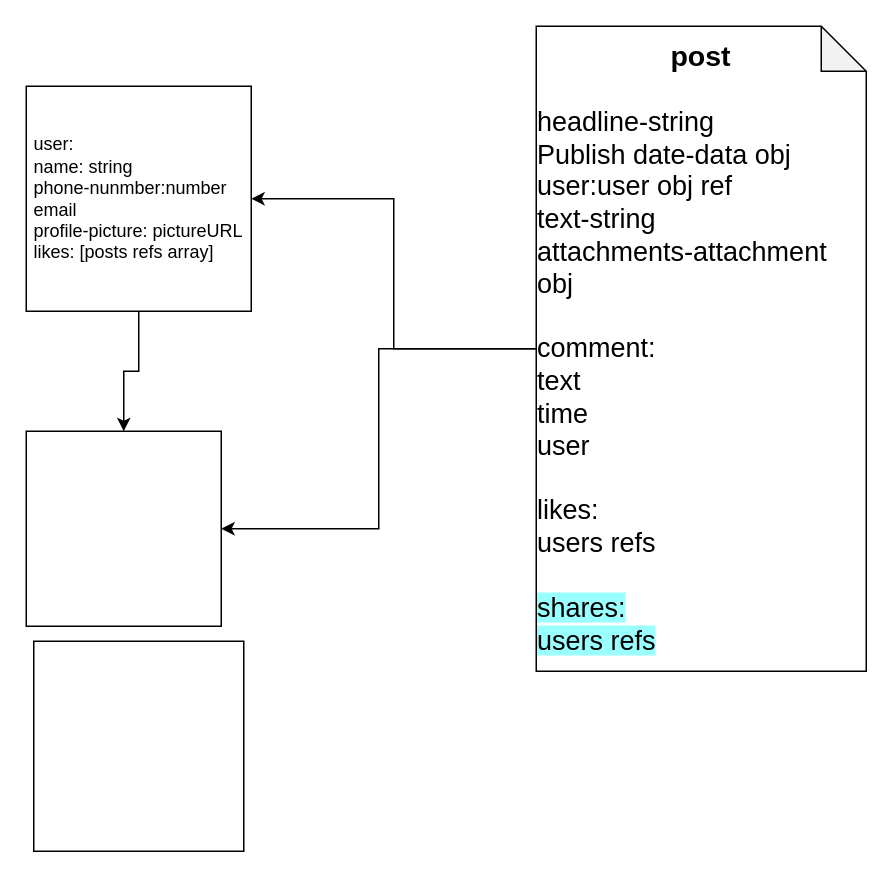
The diagram is 893 pixels wide and 878 high, and some of its shapes have lost their labels. The shapes that lost their labels are listed below. From the top down, each one's box as (x1, y1, x2, y2) in pixels, then its label:
(25, 430, 221, 626): attachments: imageURL||pdf url
(32, 640, 244, 851): comments: text time user
